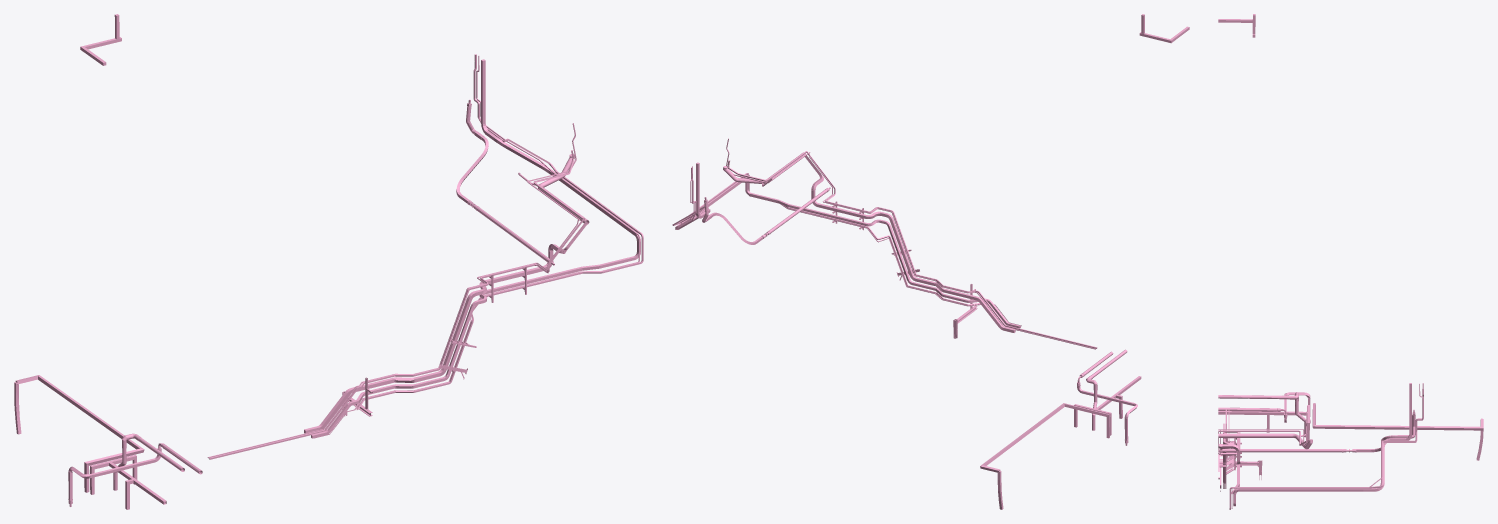
Rendered from Serv-Z0-Sec11-cut1.glb.
3 renders of one model, left to right at view 1: azimuth 30°, elevation 25°; view 2: azimuth 150°, elevation 25°; view 3: azimuth 270°, elevation 25°, orthographic. The views are drawn at different scales.
Visible parts, largest first — view 1: Serv-Z0-Sec11-cut1; view 2: Serv-Z0-Sec11-cut1; view 3: Serv-Z0-Sec11-cut1.
Boxes of the visible parts, x1,y1,x2,y2 form: Serv-Z0-Sec11-cut1: (14,14,643,509); Serv-Z0-Sec11-cut1: (672,14,1189,509); Serv-Z0-Sec11-cut1: (1218,14,1483,509).
Size of the model in its own units: 16.8 by 15.49 by 8.68.
